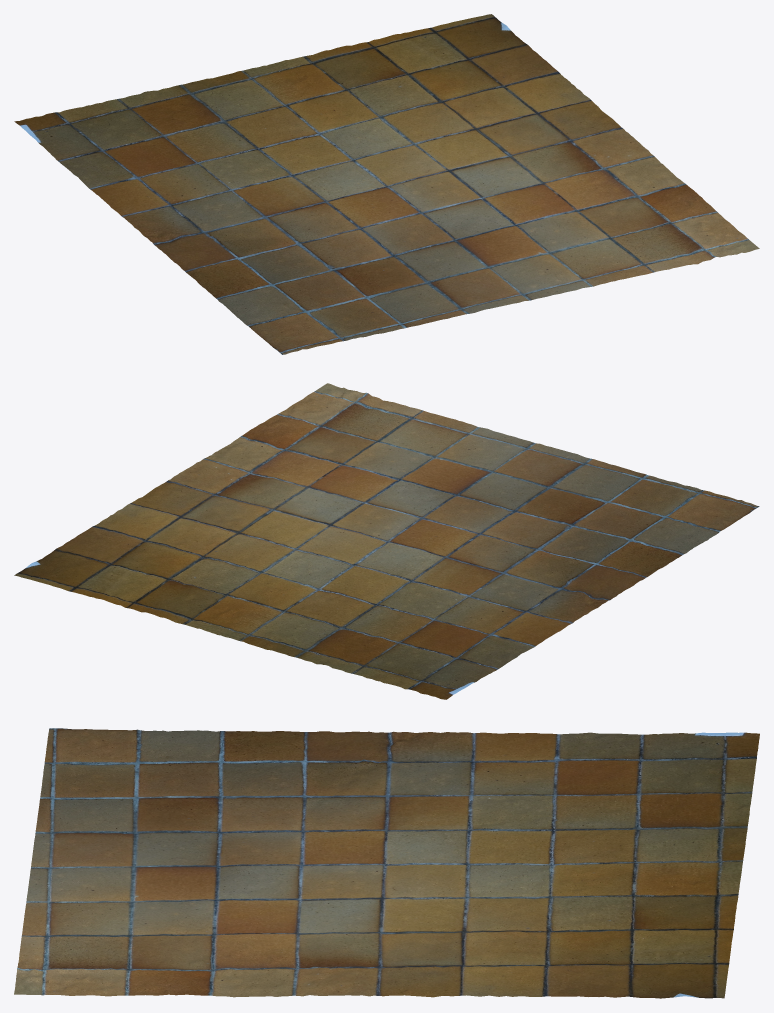
Rendered from fliesen_tile.glb.
3 views of the same model, one above another, from view 1: azimuth 30°, elevation 25°; view 2: azimuth 150°, elevation 25°; view 3: azimuth 270°, elevation 25° (orthographic). The views are drawn at different scales.
Parts seen in each view (by area): view 1: Object_2; view 2: Object_2; view 3: Object_2.
Boxes of the visible parts, x1,y1,x2,y2 form: Object_2: (14, 14, 759, 354); Object_2: (14, 383, 759, 699); Object_2: (14, 728, 759, 998).
Size of the model in its own units: 9.79 by 0.3047 by 10.74.
1 material, 1 textured.
